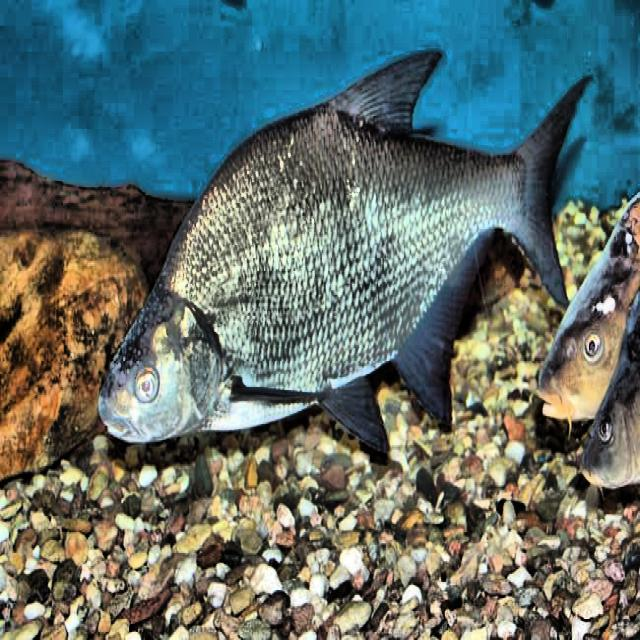fish: (98, 51, 582, 460), (536, 183, 638, 427), (576, 298, 640, 497)
